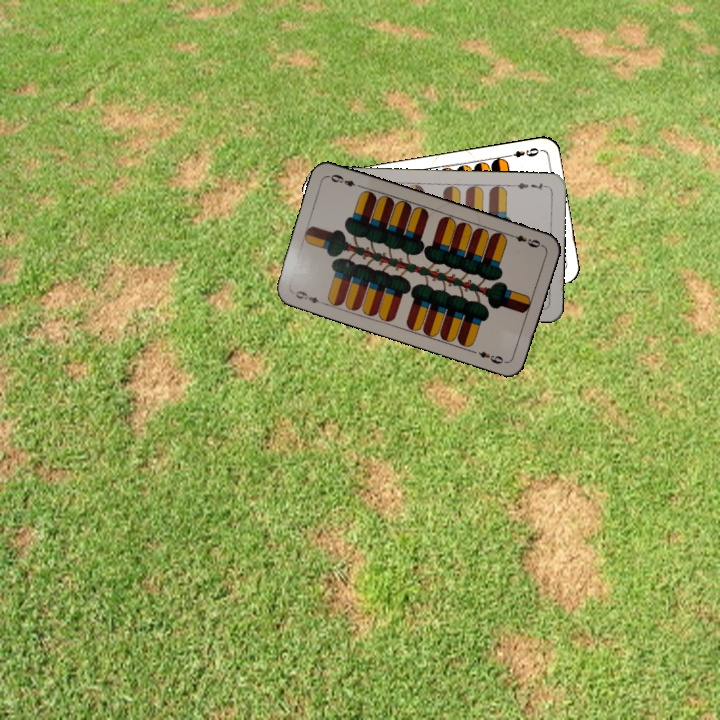E7: (509, 179, 550, 193)
E9: (289, 287, 328, 308), (505, 230, 545, 250), (503, 144, 541, 160)
